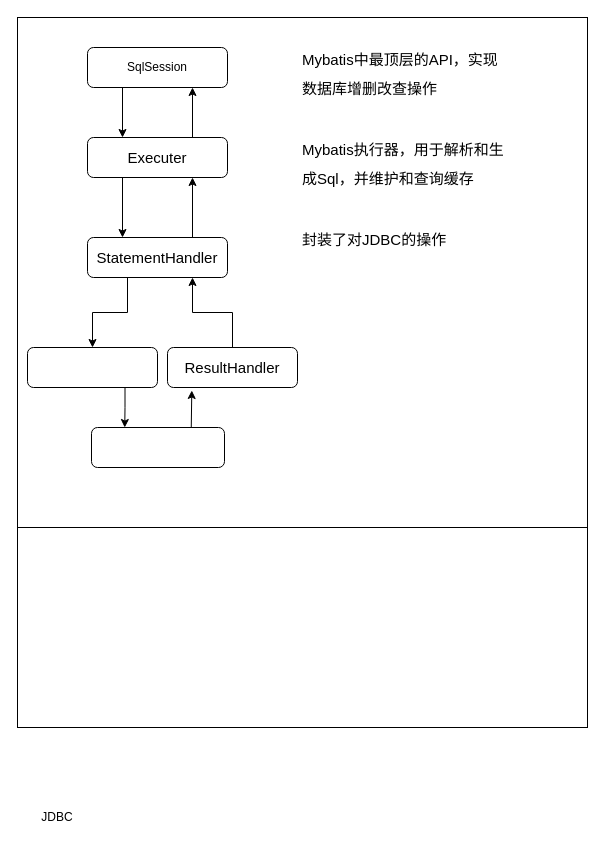
The diagram is 605 pixels wide and 855 high, and some of its shapes have lost their labels. The shapes that lost their labels are listed below. From the top down, each one's centre as x and y in pixels, then its label:
the point at 92,367: ParamterHandler
the point at 157,447: TypeHandler
